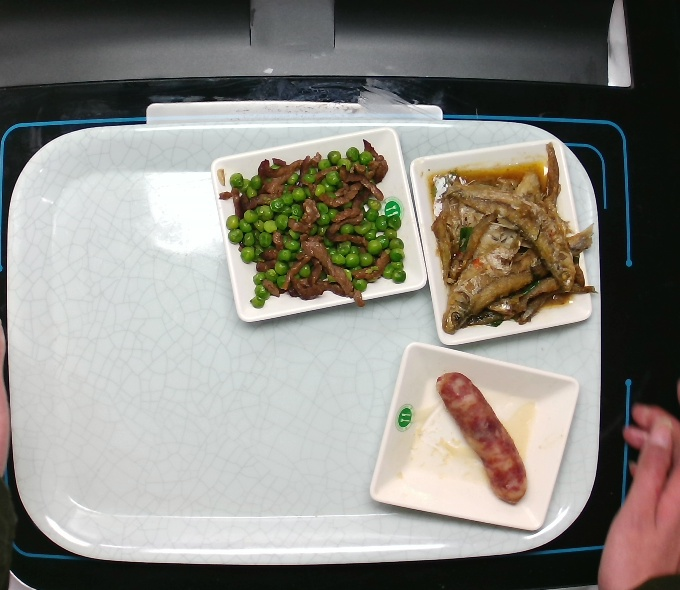wcq-CanDouNiuRou: (217, 140, 408, 313)
wcq-XiangChang: (432, 368, 532, 515)
wcq-XiaoJiYu: (429, 144, 602, 338)
